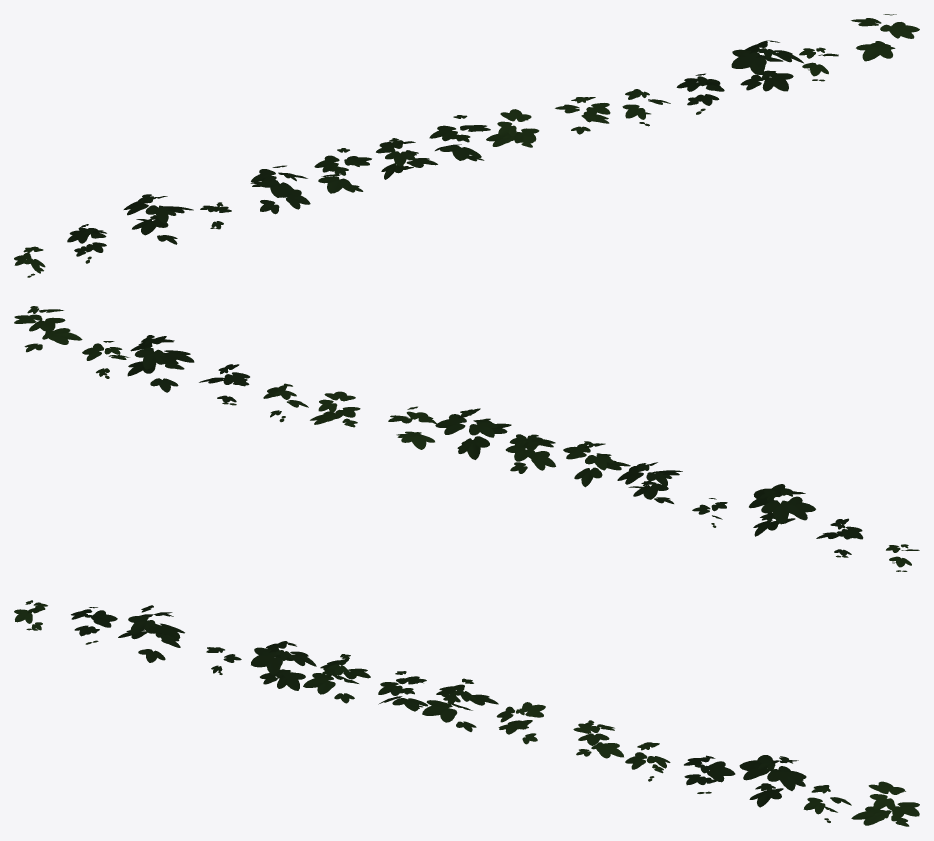
The model's file is ROW_07_SEG3_foliage.dae.
The picture shows the model from 3 angles, top to bottom: view 1: azimuth 30°, elevation 25°; view 2: azimuth 150°, elevation 25°; view 3: azimuth 330°, elevation 25°; orthographic projection.
Visible parts, largest first — view 1: ROW_07_SEG3_foliage; view 2: ROW_07_SEG3_foliage; view 3: ROW_07_SEG3_foliage.
Part boxes in pixels (left/top/right/bottom): ROW_07_SEG3_foliage: left=14, top=14, right=919, bottom=277; ROW_07_SEG3_foliage: left=14, top=306, right=919, bottom=571; ROW_07_SEG3_foliage: left=14, top=600, right=919, bottom=826.
Bounding box in the file's own units: 4.5 × 0.3427 × 0.2566.
